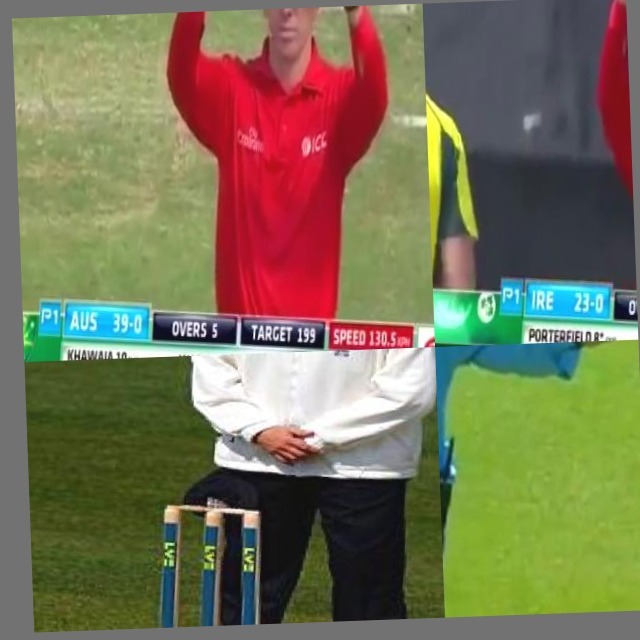No_Action: (144, 347, 445, 628)
No_Ball: (435, 340, 640, 618)
Six: (136, 4, 422, 336), (571, 0, 637, 313)
